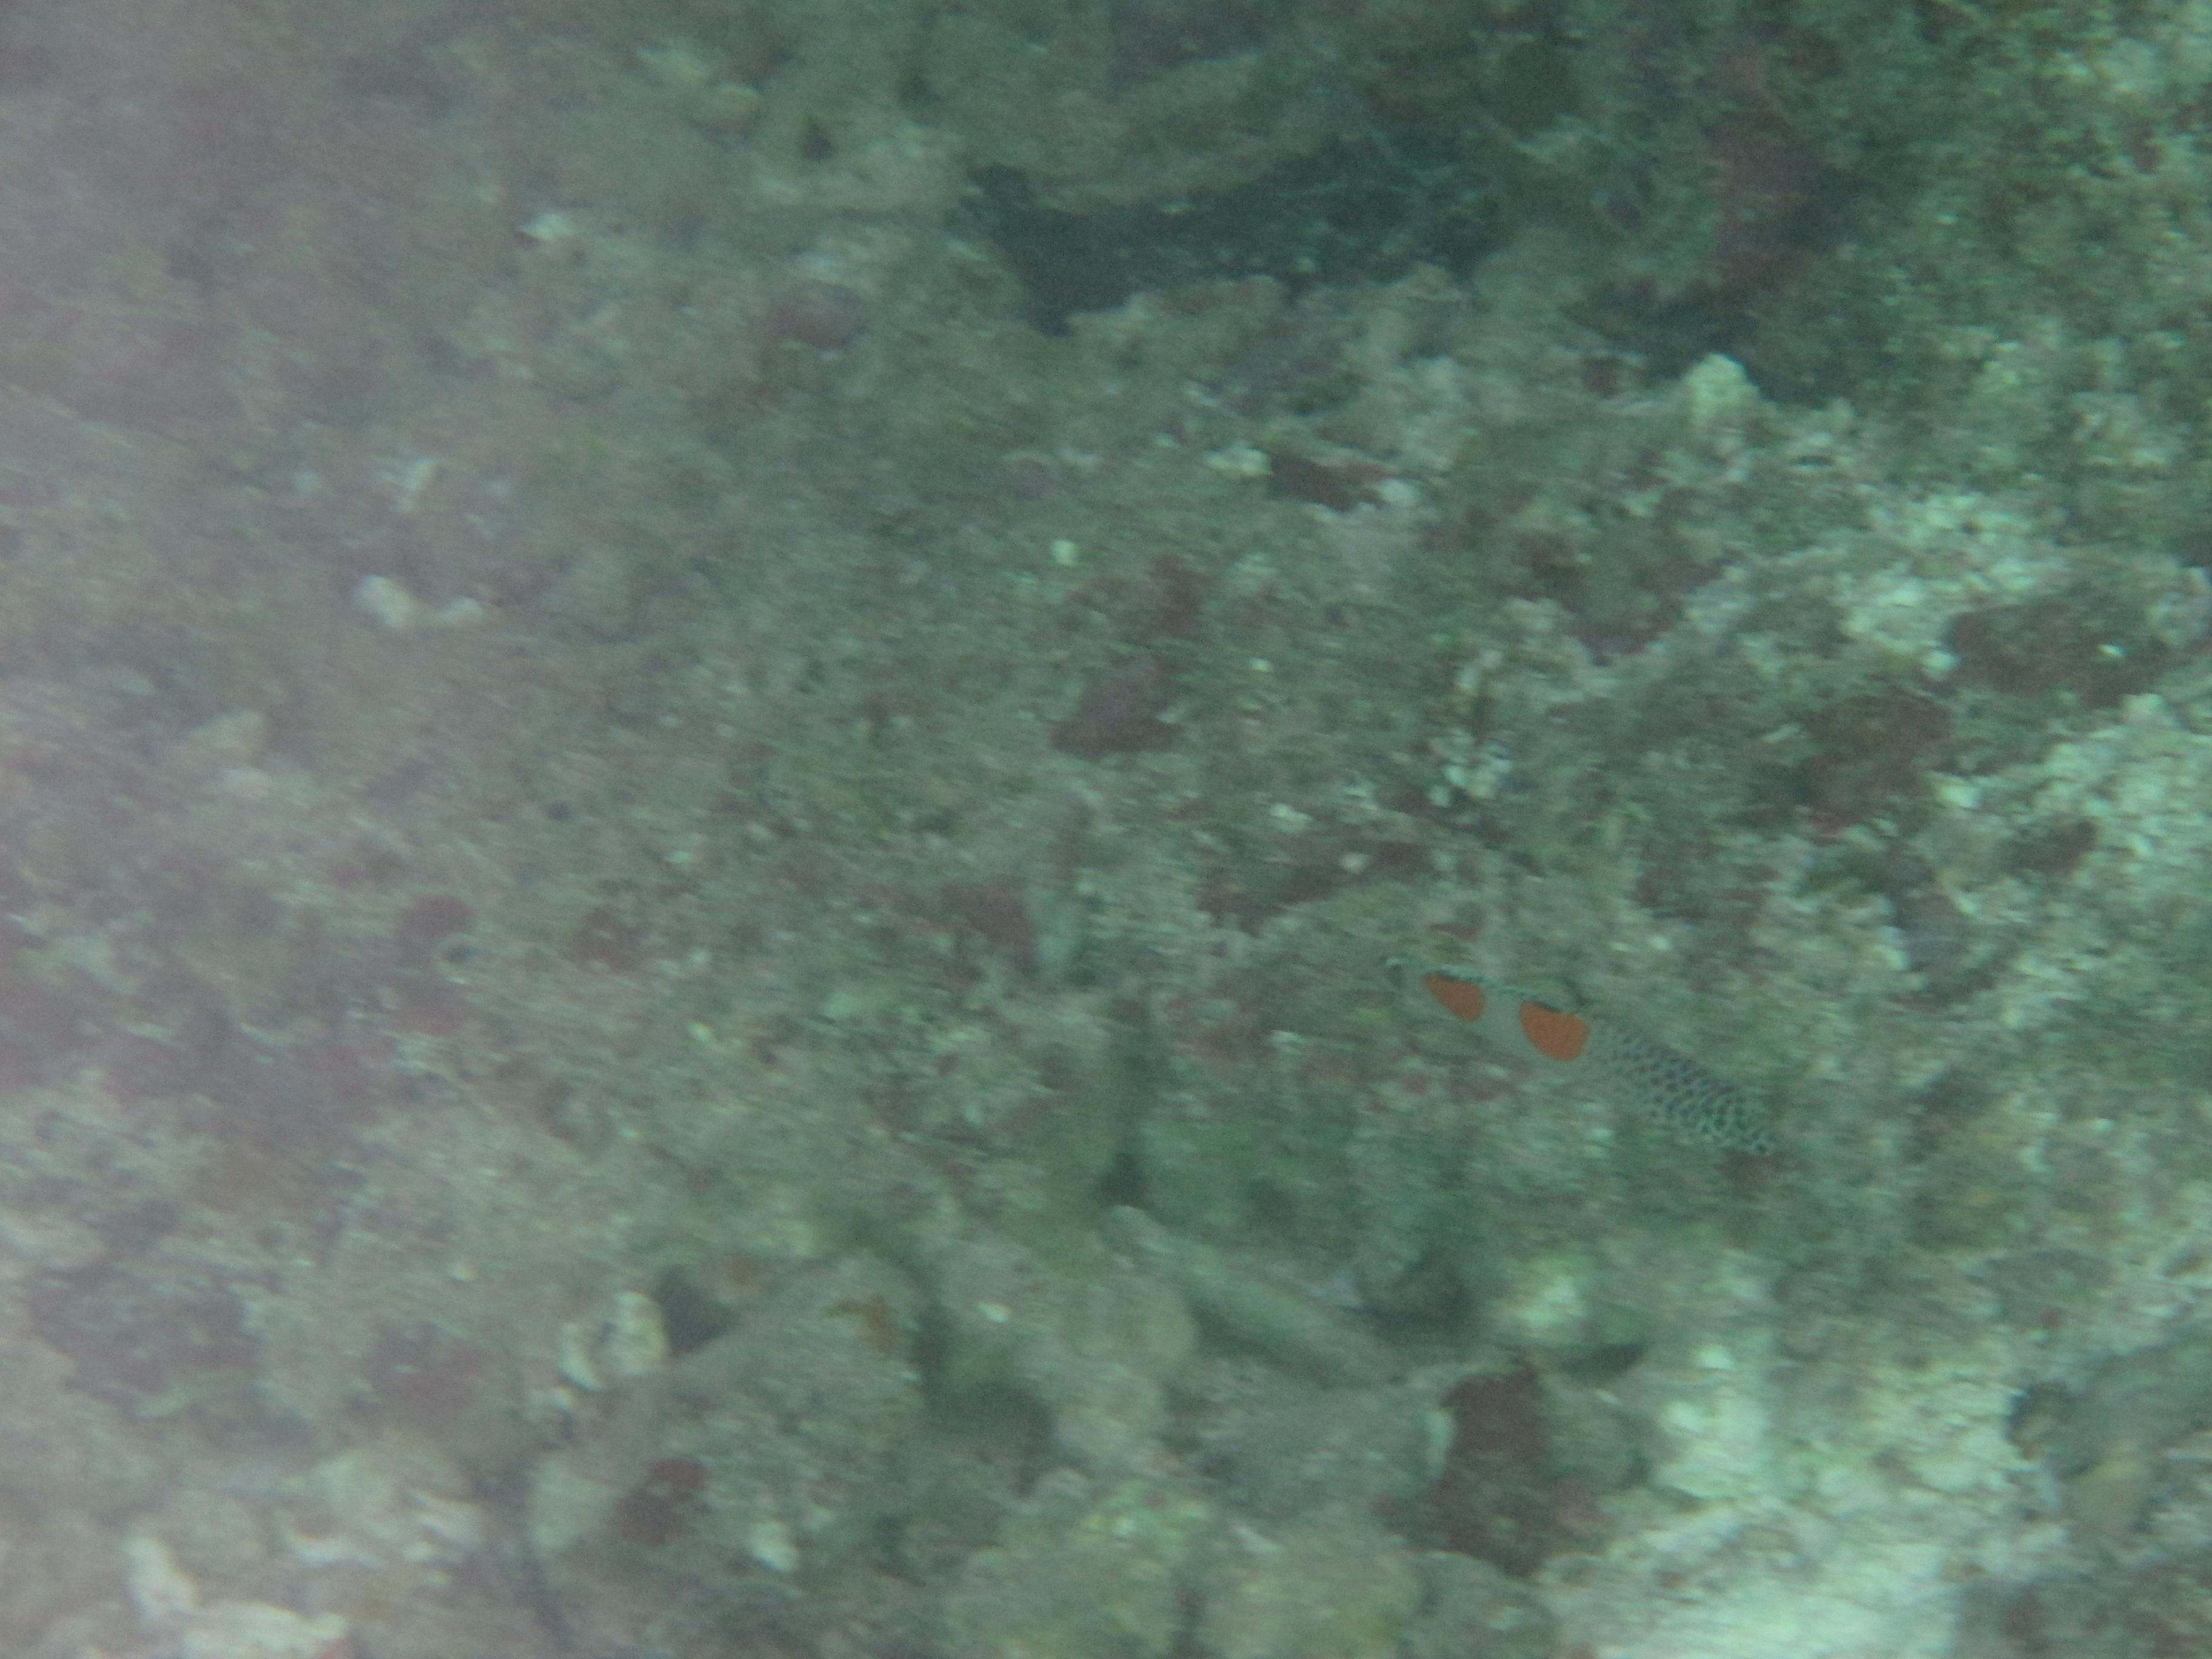Fish: (1346, 915, 1825, 1209)
